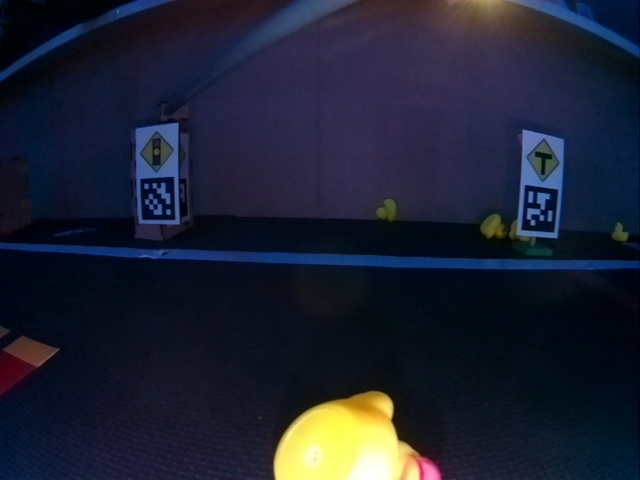Duckie: (274, 391, 439, 478), (480, 213, 505, 238), (377, 199, 398, 220)
Intersection sign: (525, 135, 559, 184)
QR code: (521, 184, 556, 235), (141, 177, 178, 219)
Signal sign: (138, 132, 173, 169)
